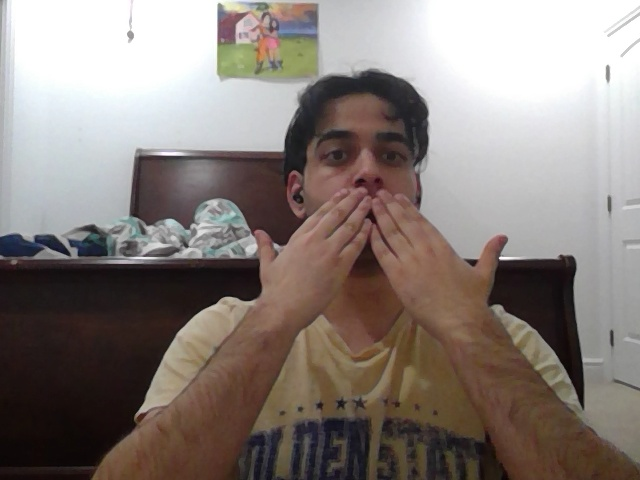Thank you: (253, 190, 512, 329)
